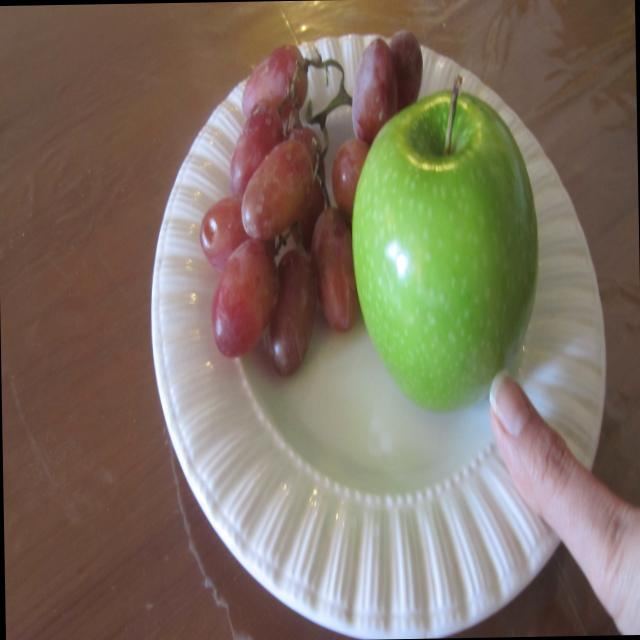Apple: (347, 67, 542, 373)
Finger: (488, 369, 568, 526)
Grapes: (191, 18, 353, 390)
